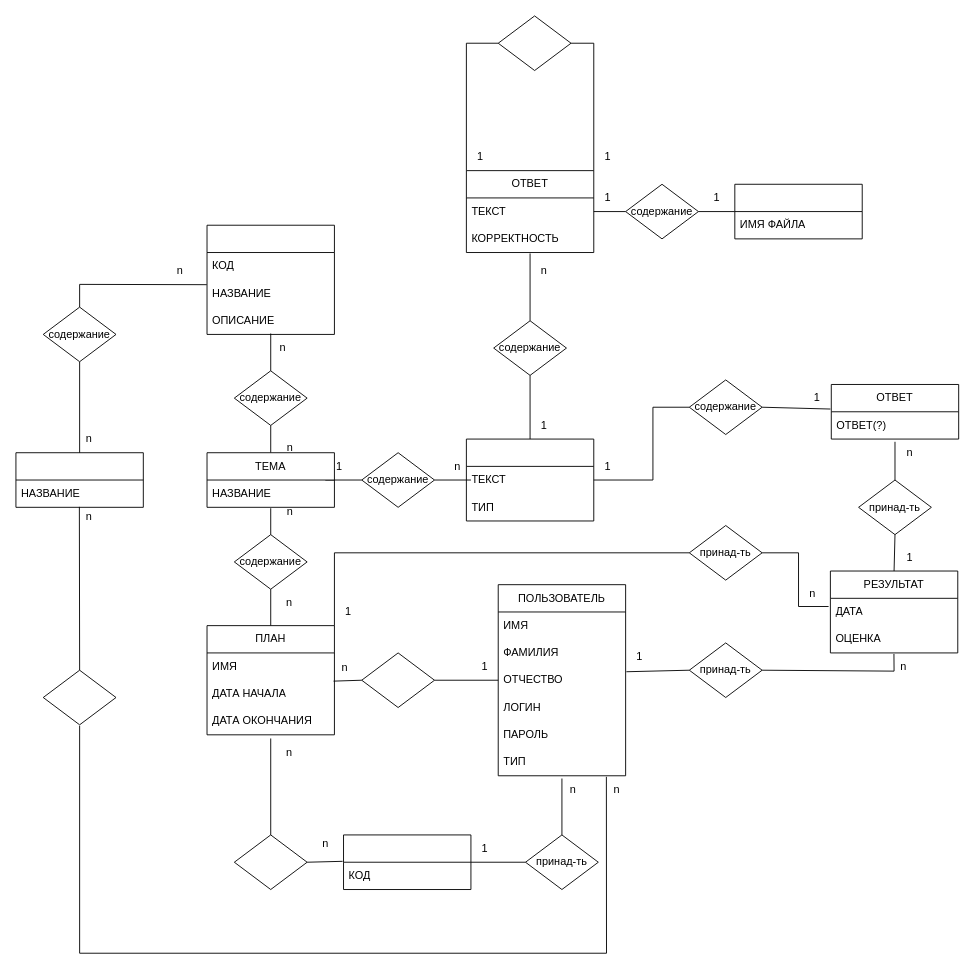
This 975x970 diagram has some shape labels left out. Here are the shapes that lost their labels. From the top down, the box of each, then its label:
(497, 15, 571, 71): соединение
(734, 183, 862, 239): КАРТИНКА
(206, 224, 334, 334): КОМПЕТЕНЦИЯ
(15, 452, 143, 507): ПРЕДМЕТ
(465, 438, 594, 521): ВОПРОС
(42, 669, 116, 725): обучение
(361, 652, 435, 708): создание
(233, 834, 307, 890): участие
(343, 834, 471, 890): ГРУППА
